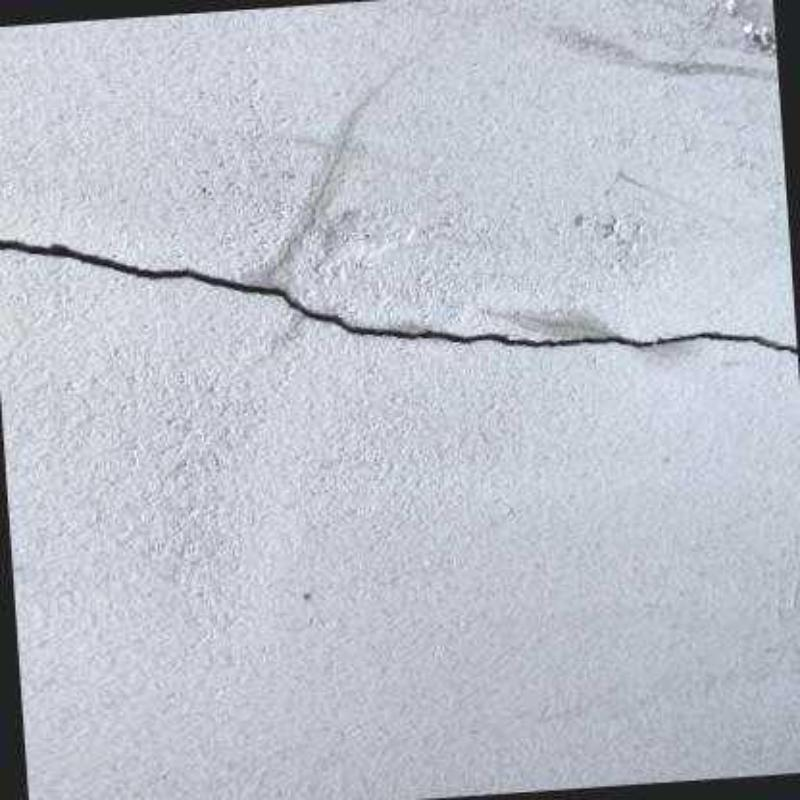pothole: (0, 239, 798, 355), (262, 90, 377, 281)
